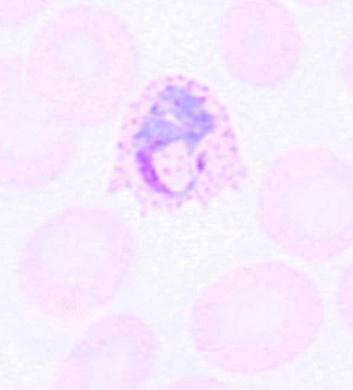Infected: (111, 71, 248, 214)
Uninfected: (190, 265, 321, 372), (26, 5, 135, 129), (18, 206, 135, 317), (0, 60, 77, 196), (258, 147, 353, 257), (53, 317, 155, 390), (219, 0, 298, 89)
